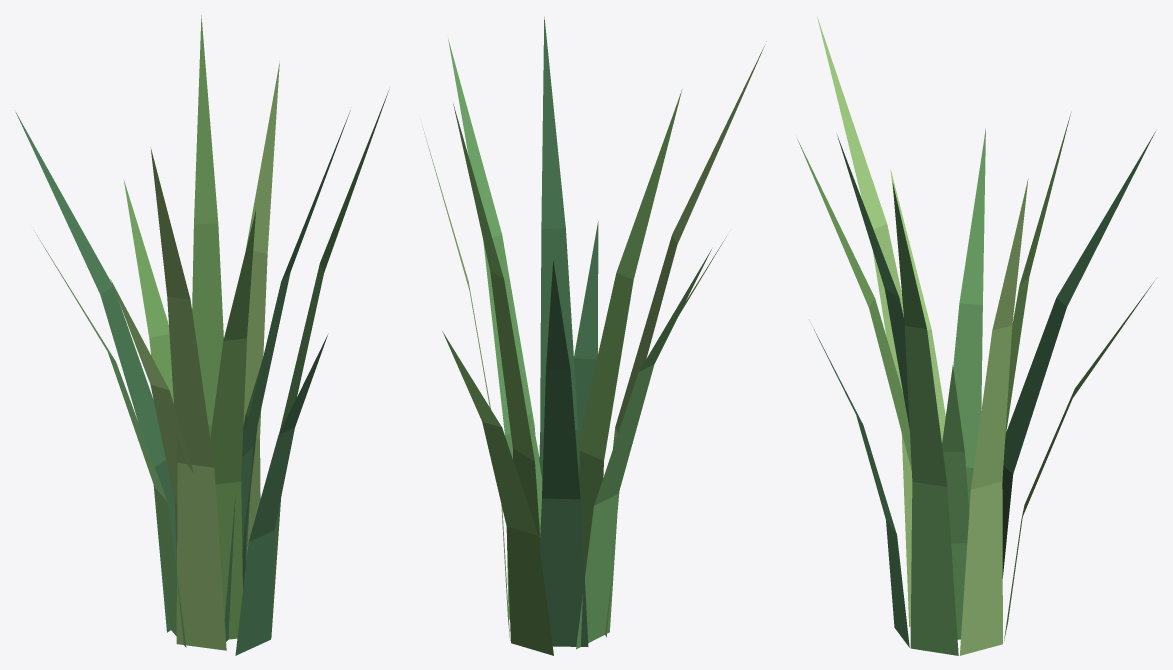
Rendered from deco_grass_tuft.obj.
The picture shows the model from 3 angles, left to right: view 1: azimuth 30°, elevation 25°; view 2: azimuth 150°, elevation 25°; view 3: azimuth 270°, elevation 25°; orthographic projection. The views are drawn at different scales.
Parts seen in each view (by area): view 1: deco_grass_tuft; view 2: deco_grass_tuft; view 3: deco_grass_tuft.
Boxes of the visible parts, left/top/right/bottom form: deco_grass_tuft: left=15, top=15, right=389, bottom=655; deco_grass_tuft: left=422, top=17, right=766, bottom=655; deco_grass_tuft: left=796, top=16, right=1156, bottom=655.
Bounding box in the file's own units: 0.0344 × 0.0598 × 0.0355.
1 material, 1 textured.
